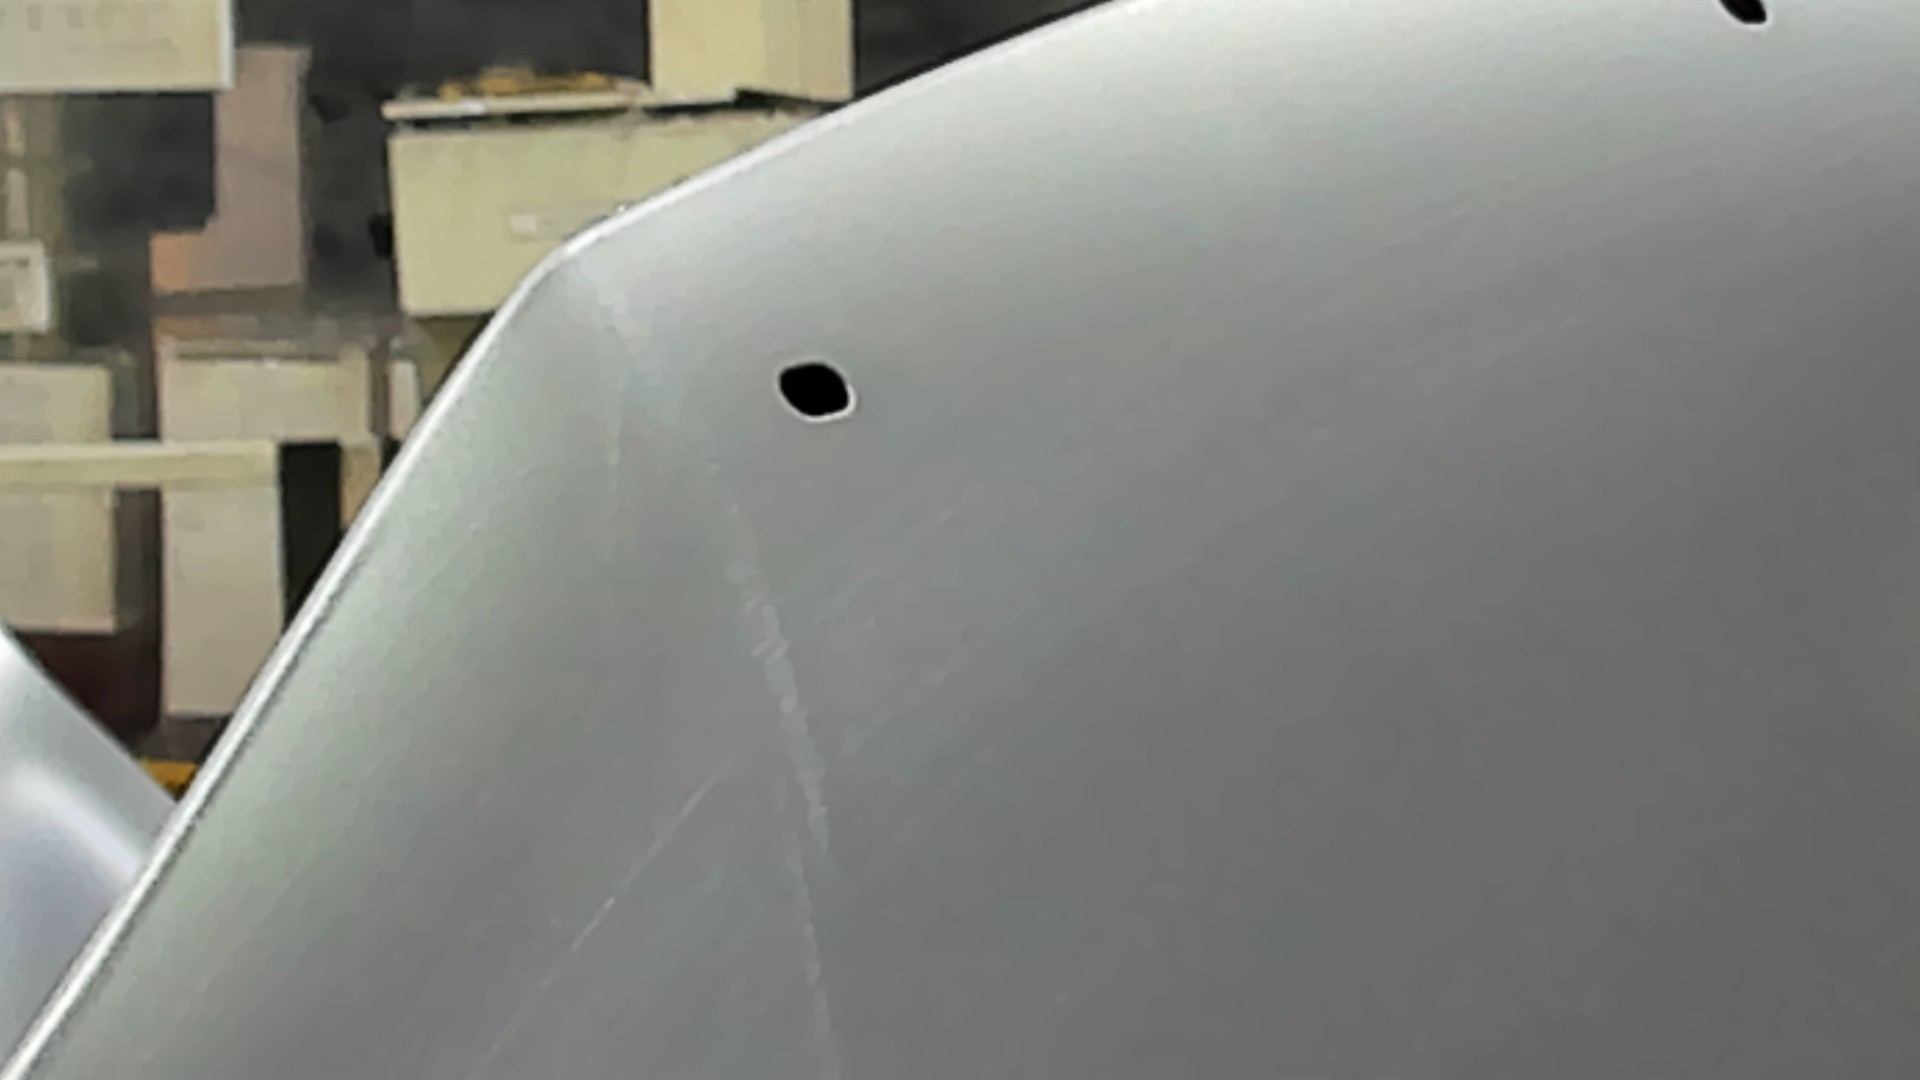amorfo: (770, 353, 860, 427), (1714, 1, 1774, 32)
capo: (909, 124, 1915, 1080)
